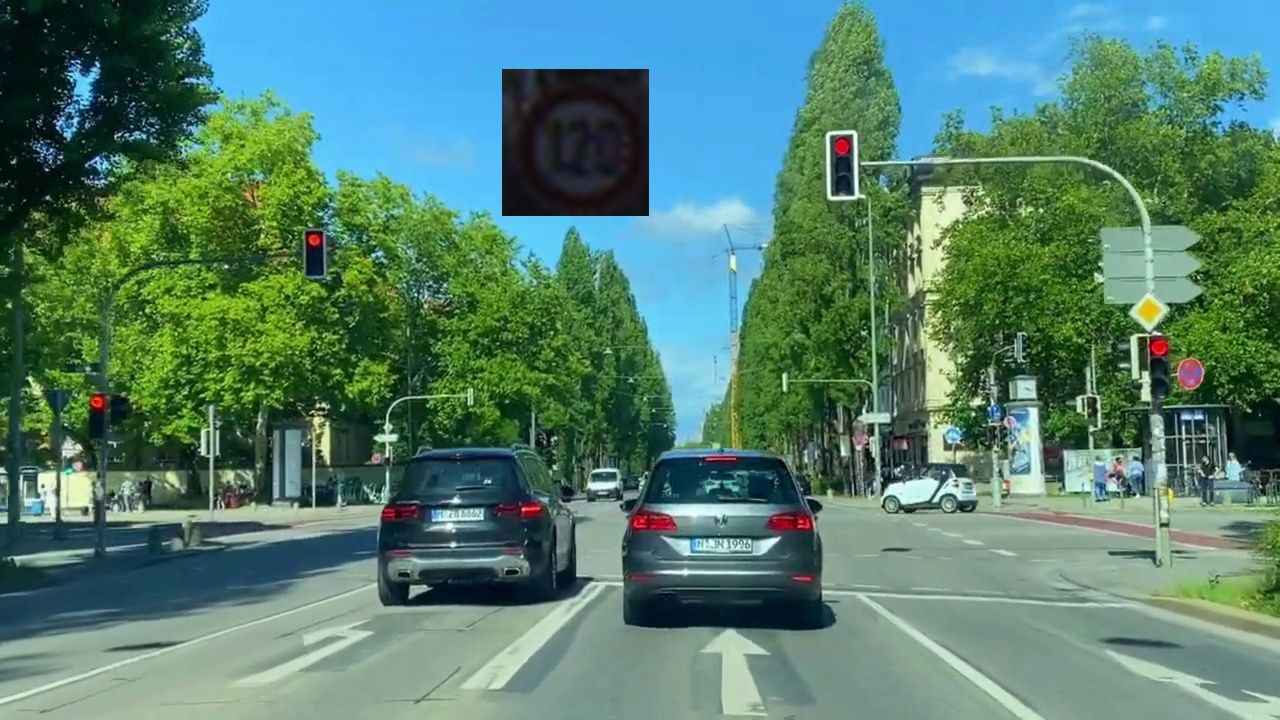Speed 120: (502, 69, 649, 216)
